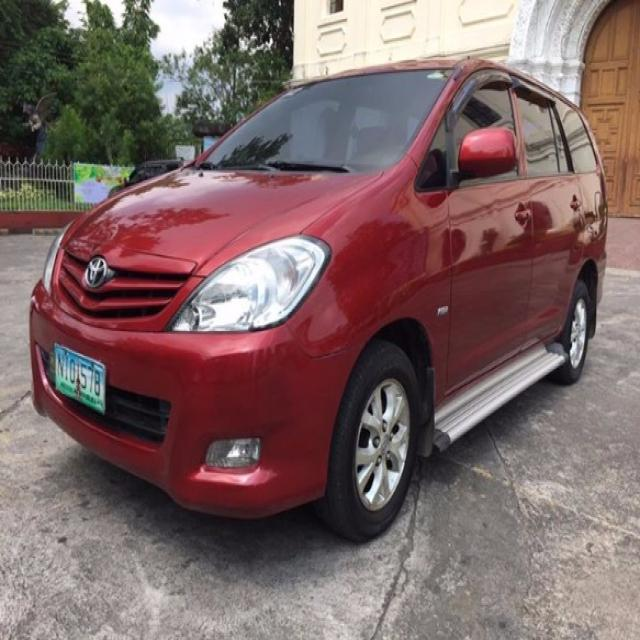light_vehicle: (29, 57, 609, 543)
